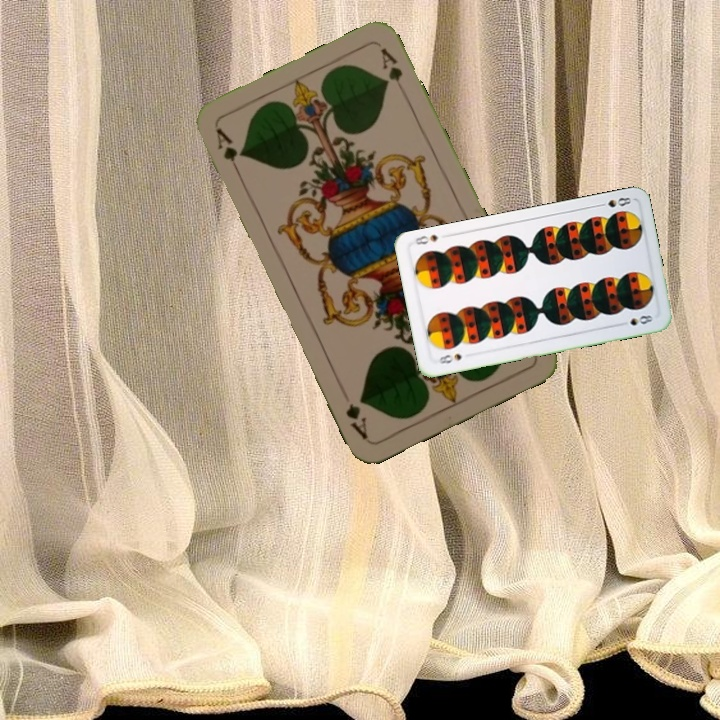GA: (211, 123, 244, 180)
S8: (593, 193, 634, 210), (435, 350, 464, 366)
